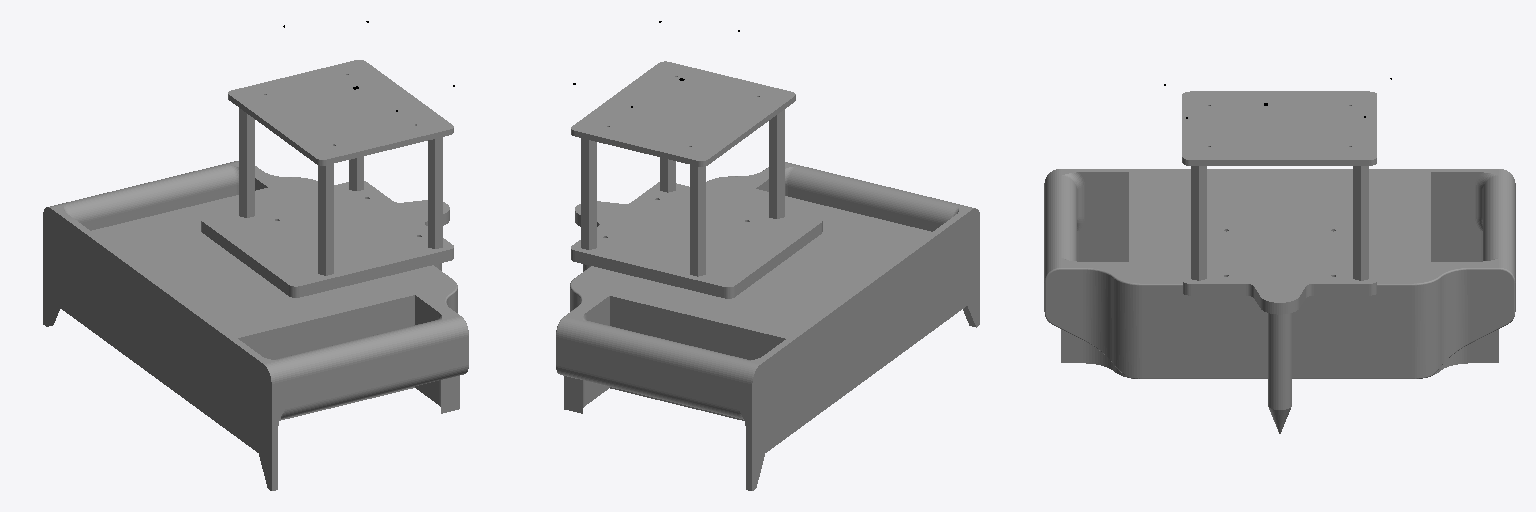
The robot description file, URDF, robot "phasma":
<?xml version="1.0" ?>
<!-- =================================================================================== -->
<!-- |    This document was autogenerated by xacro from [local-path]/catkin_ws/src/drs_extra/phasma_description/urdf/phasma.urdf.xacro | -->
<!-- |    EDITING THIS FILE BY HAND IS NOT RECOMMENDED                                 | -->
<!-- =================================================================================== -->
<robot name="phasma">
  <link name="base"/>
  <joint name="base_to_alphasense" type="fixed">
    <origin rpy="0 0 0" xyz="-65.210e-3 -0.109e-3 177.0e-3"/>
    <parent link="base"/>
    <child link="alphasense_mount"/>
  </joint>
  <link name="alphasense_mount">
    <visual>
      <geometry>
        <mesh filename="package://alphasense_description/urdf/meshes/alphasense_simplified.dae"/>
      </geometry>
    </visual>
    <!-- TODO fix these inertial stuff -->
    <inertial>
      <origin rpy="0 0 0" xzy="0 0 0"/>
      <mass value="0.5"/>
      <inertia ixx="3.545e-4" ixy="6.051e-10" ixz="-3.736e-7" iyy="3.554e-4" iyz="-2.919e-9" izz="3.627e-4"/>
    </inertial>
  </link>
  <link name="imu_link">
    <visual>
      <geometry>
        <box size="3e-3 2e-3 1e-3"/>
      </geometry>
      <material name="black">
        <color rgba="0 0 0 1"/>
      </material>
    </visual>
  </link>
  <joint name="imu_joint" type="fixed">
    <origin rpy="3.141592653589793 0 0" xyz="6e-3 -8.55e-3 17.4e-3"/>
    <parent link="alphasense_mount"/>
    <child link="imu_link"/>
  </joint>
  <link name="cam_front_left">
    <visual>
      <geometry>
        <box size="1e-3 1e-3 1e-3"/>
      </geometry>
      <material name="black">
        <color rgba="0 0 0 1"/>
      </material>
    </visual>
  </link>
  <link name="cam_front_right">
    <visual>
      <geometry>
        <box size="1e-3 1e-3 1e-3"/>
      </geometry>
      <material name="black">
        <color rgba="0 0 0 1"/>
      </material>
    </visual>
  </link>
  <link name="cam_side_right">
    <visual>
      <geometry>
        <box size="1e-3 1e-3 1e-3"/>
      </geometry>
      <material name="black">
        <color rgba="0 0 0 1"/>
      </material>
    </visual>
  </link>
  <link name="cam_side_left">
    <visual>
      <geometry>
        <box size="1e-3 1e-3 1e-3"/>
      </geometry>
      <material name="black">
        <color rgba="0 0 0 1"/>
      </material>
    </visual>
  </link>
  <!-- front right camera which is cam0 in alphasense driver -->
  <joint name="front_right_cam_joint" type="fixed">
    <origin rpy="1.5708 0.0043 1.5675 " xyz="0.0438 0.0485 -0.0109"/>
    <parent link="imu_link"/>
    <child link="cam_front_right"/>
  </joint>
  <!-- front left camera which is cam1 in alphasense driver -->
  <joint name="front_left_cam_joint" type="fixed">
    <origin rpy=" 1.5715 -0.0042 1.5712 " xyz="0.0437 -0.0611 -0.0115"/>
    <parent link="imu_link"/>
    <child link="cam_front_left"/>
  </joint>
  <!-- top camera which is cam2 in alphasense driver, haven't calibrated yet -->
  <!-- side right camera which is cam3 in alphasense driver -->
  <joint name="side_right_cam_joint" type="fixed">
    <origin rpy="1.5691 -0.0061 3.1334" xyz="-0.006 0.062 -0.0105"/>
    <parent link="imu_link"/>
    <child link="cam_side_right"/>
  </joint>
  <!-- side left camera which is cam4 in alphasense driver -->
  <joint name="side_left_cam_joint" type="fixed">
    <origin rpy="1.5733 0.00443 -0.0052" xyz="-0.00789 -0.07720 -0.01356"/>
    <parent link="imu_link"/>
    <child link="cam_side_left"/>
  </joint>
  <link name="body">
    <visual>
      <geometry>
        <mesh filename="package://phasma_description/urdf/meshes/phasma_body.dae"/>
      </geometry>
    </visual>
  </link>
  <joint name="body_to_base_mount" type="fixed">
    <origin rpy="0 0 0" xyz="0 0 0"/>
    <parent link="base"/>
    <child link="body"/>
  </joint>
  <joint name="base_to_hesai" type="fixed">
    <origin rpy="0 0 0" xyz="-59.957e-3 0.015e-3 93.0e-3"/>
    <parent link="base"/>
    <child link="hesai_base"/>
  </joint>
  <link name="hesai_base">
    <visual>
      <origin rpy="0 0 0" xyz="0 0 0"/>
      <!-- If mesh is not available: -->
      <!--origin xyz="0 0 38.0e-3" rpy="0 0 0" /-->
      <geometry>
        <!-- If mesh is not available: -->
        <!--cylinder radius="51.500e-3" length="76.0e-3" /-->
        <mesh filename="package://hesai_description/urdf/meshes/PandarXT_Model.dae"/>
      </geometry>
    </visual>
    <inertial>
      <!-- CoM taken from CAD assuming constant density and mass 0.807 (best approximation available to real mass) -->
      <origin rpy="0 0 0" xyz="-0.015e-3 0.0 37.494e-3"/>
      <!-- mass taken from Hesai datasheet -->
      <mass value="0.807"/>
      <!-- Inertia tensor from CAD assuming constant density and mass 0.807 (best approximation vailable to real mass) -->
      <inertia ixx="886.81e-6" ixy="5.802e-11" ixz="-0.34e-6" iyy="898.12e-6" iyz="-0.014e-6" izz="1004.287e-6"/>
    </inertial>
    <collision>
      <origin xyz="0 0 38.0e-3"/>
      <geometry>
        <cylinder length="76.0e-3" radius="51.500e-3"/>
      </geometry>
    </collision>
  </link>
  <link name="hesai_origin"/>
  <joint name="hesai_base_to_origin" type="fixed">
    <!-- See page 12 of User Manual -->
    <origin rpy="0.0 0.0 0.0" xyz="0.0 0.0 46.4e-3"/>
    <parent link="hesai_base"/>
    <child link="hesai_origin"/>
  </joint>
  <!-- TODO implement gazebo plugin loading if simulation is true -->
</robot>

--- Render facts (derived) ---
The picture shows the robot from 3 angles, left to right: view 1: azimuth 30°, elevation 25°; view 2: azimuth 150°, elevation 25°; view 3: azimuth 270°, elevation 25°; orthographic projection.
Robot: phasma — 10 links, 9 joints (9 fixed); root link base; default pose: every joint at zero.
Links seen in each view (by area): view 1: body; view 2: body; view 3: body.
Link boxes in pixels (x1=…): body: x1=43, y1=60, x2=468, y2=490; body: x1=556, y1=61, x2=979, y2=490; body: x1=1044, y1=91, x2=1515, y2=433.
Bounding box of the posed robot: 0.2122 × 0.29 × 0.2105 m (x, y, z).
1 mesh visuals loaded from 3 distinct referenced files (1 Collada DAE); not drawn: 2 (reference not matched to a file when rendering).